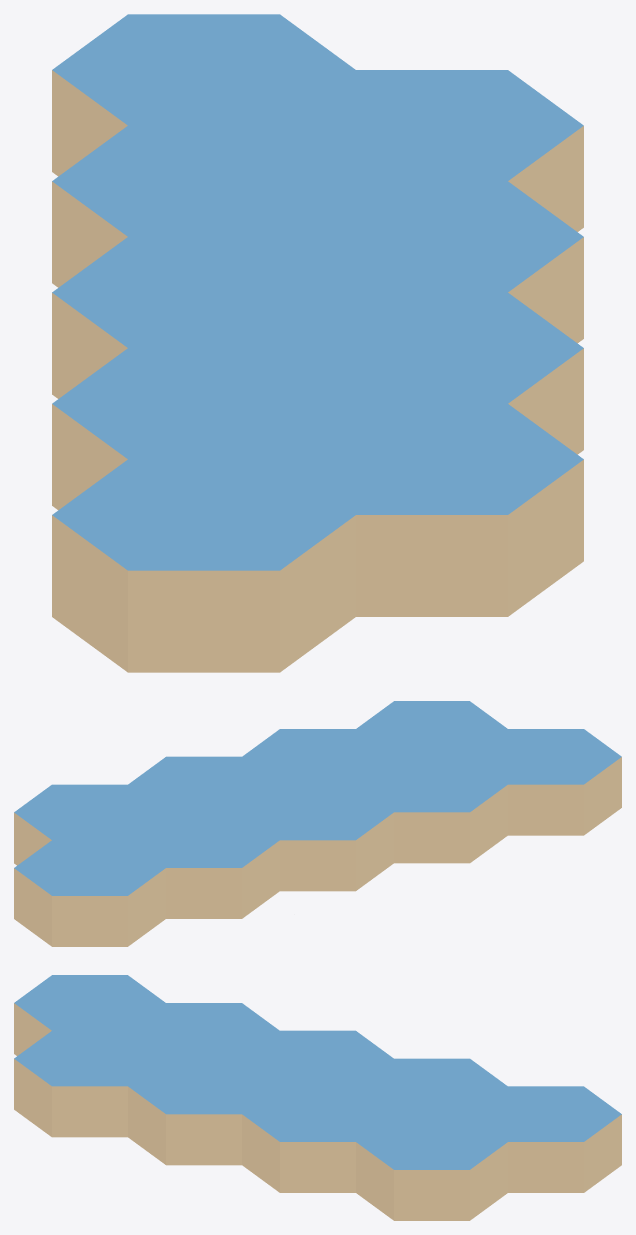
File: granja-pradera-pbr-v4.glb
3 renders of one model, top to bottom at view 1: azimuth 30°, elevation 25°; view 2: azimuth 150°, elevation 25°; view 3: azimuth 270°, elevation 25°, orthographic. The views are drawn at different scales.
Visible parts, largest first — view 1: GRANJA_Techo, GRANJA_Paredes; view 2: GRANJA_Techo, GRANJA_Paredes; view 3: GRANJA_Techo, GRANJA_Paredes.
Part boxes in pixels (box(x1,y1,x2,y2)): GRANJA_Techo: box(52, 14, 583, 570); GRANJA_Paredes: box(52, 70, 583, 672); GRANJA_Techo: box(14, 701, 621, 895); GRANJA_Paredes: box(14, 757, 621, 946); GRANJA_Techo: box(14, 975, 621, 1169); GRANJA_Paredes: box(14, 1003, 621, 1220).
Size of the model in its own units: 303 by 87 by 400.
